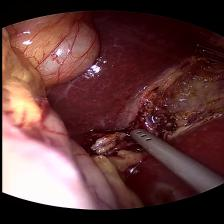Grasper: (193, 39, 223, 67)
Irrigator: (118, 128, 168, 148)
